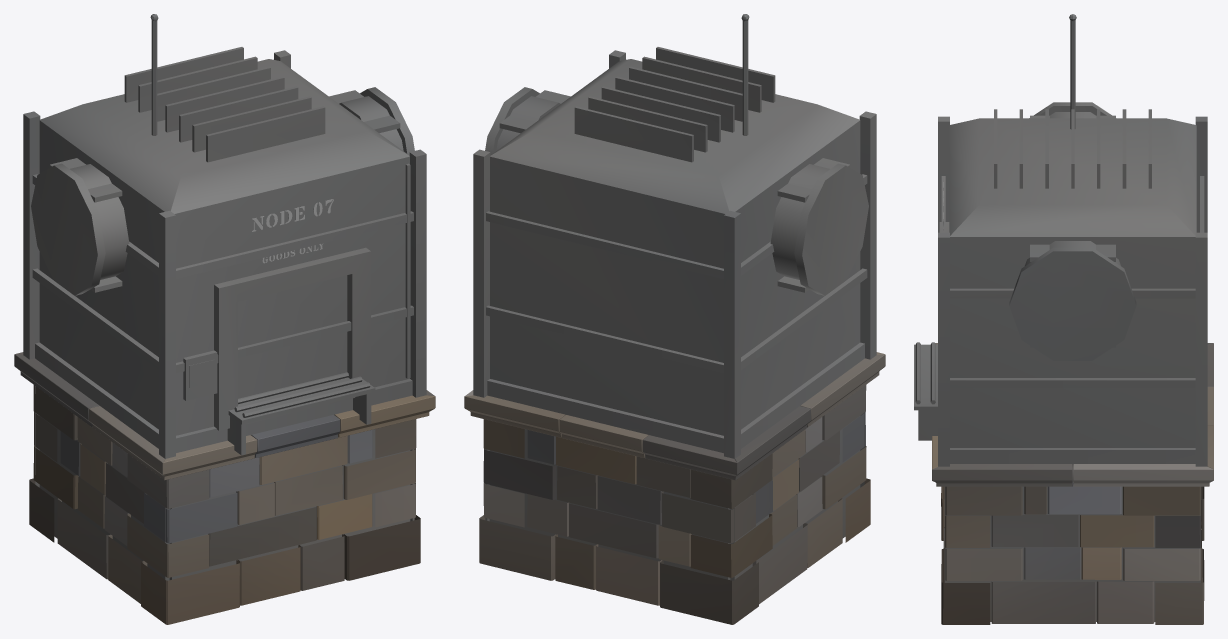
The model's file is TubeNode_LOD1.glb.
The picture shows the model from 3 angles, left to right: view 1: azimuth 30°, elevation 25°; view 2: azimuth 150°, elevation 25°; view 3: azimuth 270°, elevation 25°; orthographic projection. The views are drawn at different scales.
Visible parts, largest first — view 1: TubeNode_Metal_LOD1, TubeNode_Masonry_LOD1, TubeNode_Trim_LOD1, TubeNode_Glow_LOD1, TubeNode_Stencil_front_LOD1; view 2: TubeNode_Metal_LOD1, TubeNode_Masonry_LOD1, TubeNode_Trim_LOD1; view 3: TubeNode_Metal_LOD1, TubeNode_Masonry_LOD1, TubeNode_Trim_LOD1.
Part boxes in pixels (bbox=[...]): TubeNode_Metal_LOD1: bbox=[23, 20, 426, 458]; TubeNode_Masonry_LOD1: bbox=[29, 385, 420, 624]; TubeNode_Trim_LOD1: bbox=[14, 352, 435, 480]; TubeNode_Glow_LOD1: bbox=[150, 14, 410, 387]; TubeNode_Stencil_front_LOD1: bbox=[252, 199, 333, 231]; TubeNode_Metal_LOD1: bbox=[473, 21, 876, 458]; TubeNode_Masonry_LOD1: bbox=[479, 385, 870, 624]; TubeNode_Trim_LOD1: bbox=[464, 352, 885, 480]; TubeNode_Metal_LOD1: bbox=[914, 20, 1207, 466]; TubeNode_Masonry_LOD1: bbox=[941, 464, 1204, 624]; TubeNode_Trim_LOD1: bbox=[932, 343, 1213, 486].
Size of the model in its own units: 4.1 by 6.68 by 3.49.
